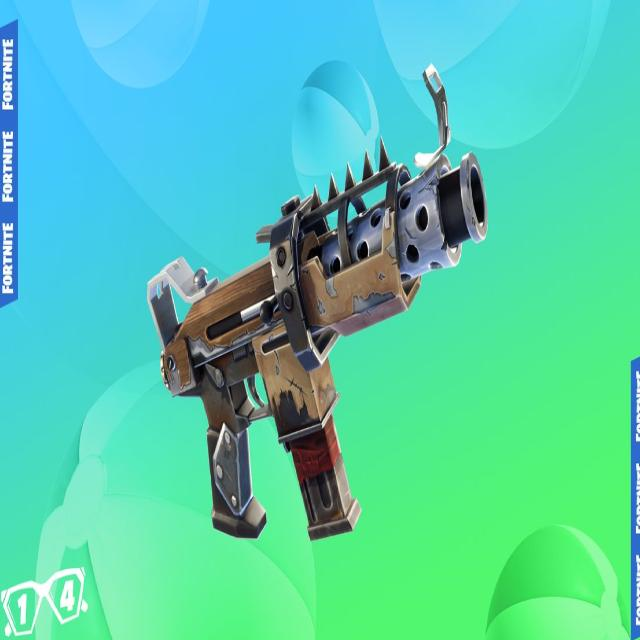Weapon: (146, 64, 487, 538)
